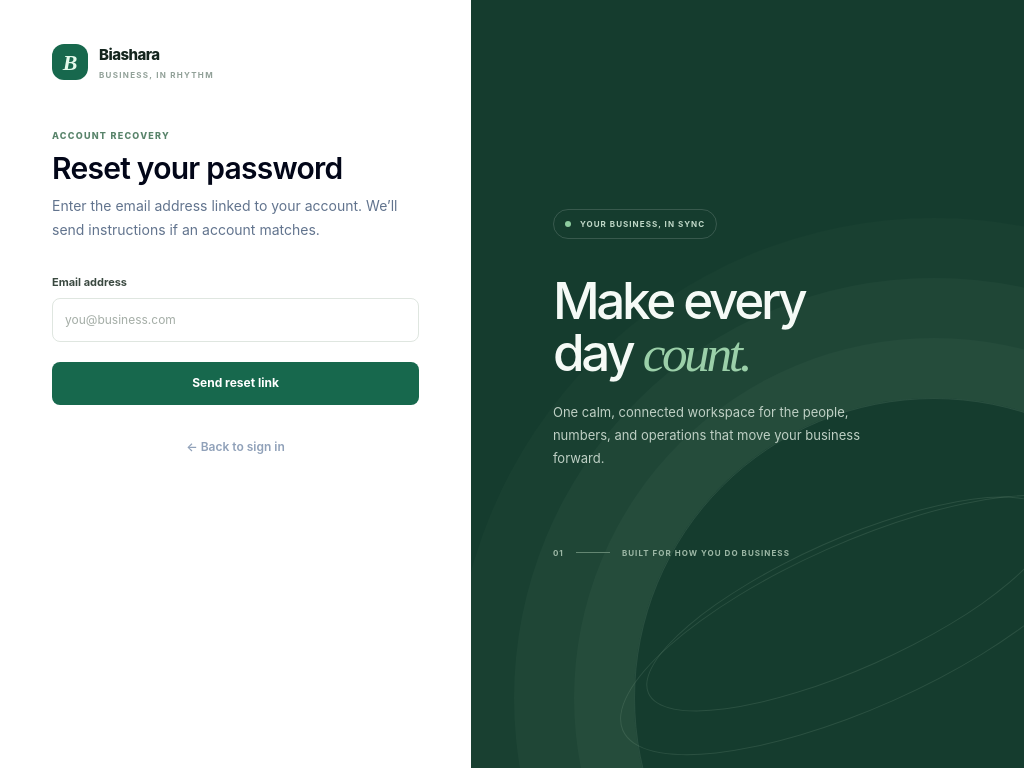
Scenario: application shell › shows a generic success message after requesting a password reset
Type "owner@example.test" into the field labelled "Email address".
click(236, 320); type("owner@example.test")  # box [52, 298, 419, 342]
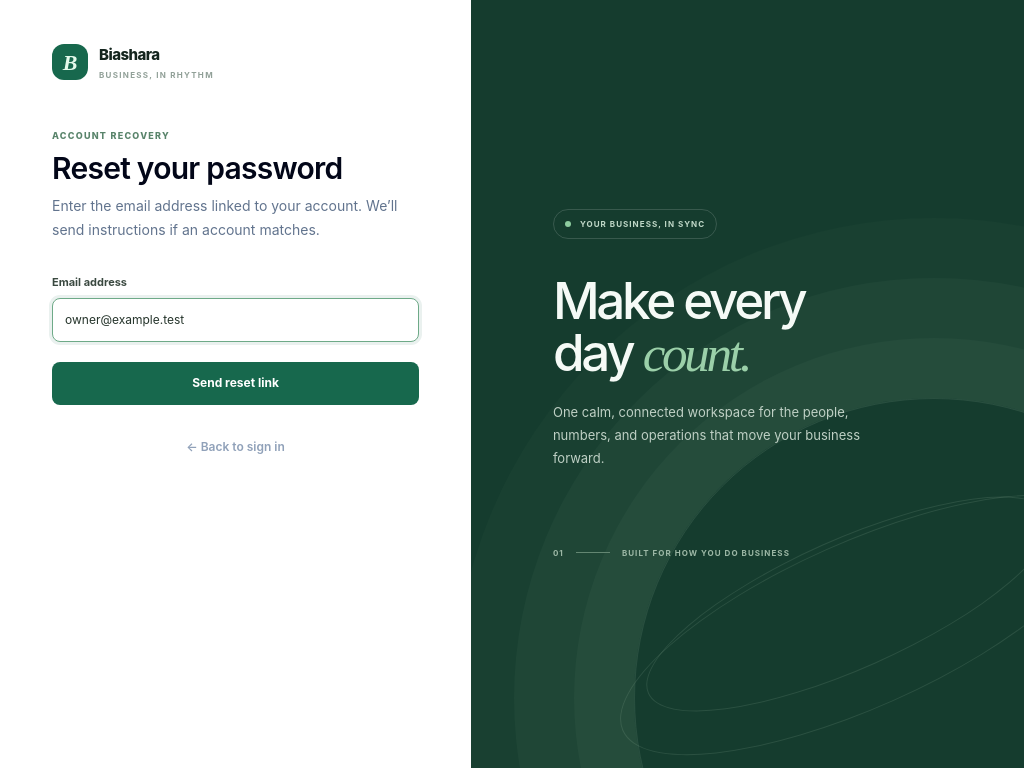
Click the button "Send reset link".
click(236, 383)  # box [52, 362, 419, 404]
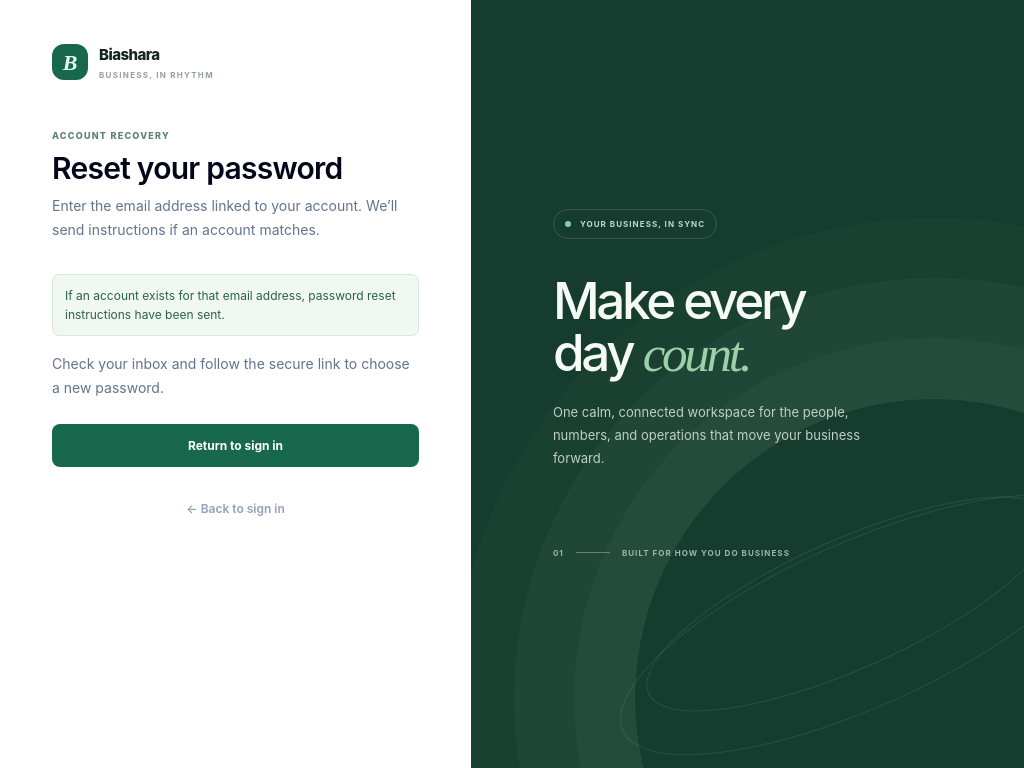
Check: the message shows "If an account exists for that email address", box [65, 288, 396, 322]
